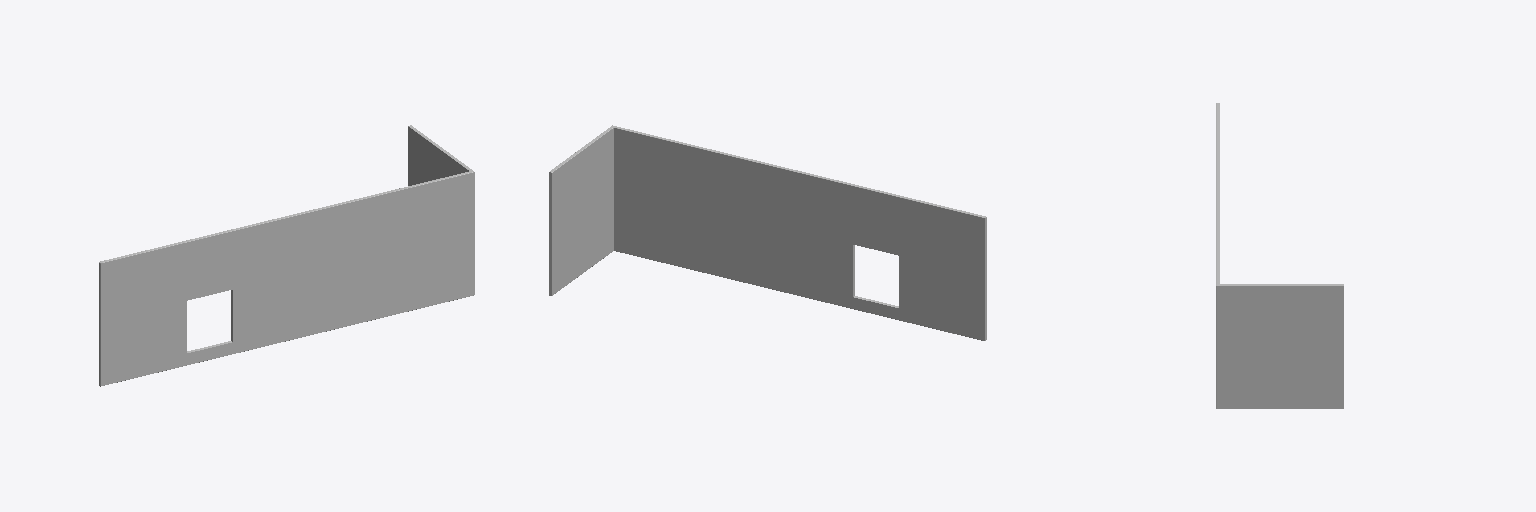
File: SM_Counter_Sink_Stove.obj
3 views of the same model, side by side, from view 1: azimuth 30°, elevation 25°; view 2: azimuth 150°, elevation 25°; view 3: azimuth 270°, elevation 25° (orthographic).
Visible parts, largest first — view 1: SM_Counter_Sink_Stove; view 2: SM_Counter_Sink_Stove; view 3: SM_Counter_Sink_Stove.
Part boxes in pixels (bbox=[...]): SM_Counter_Sink_Stove: bbox=[99, 125, 474, 386]; SM_Counter_Sink_Stove: bbox=[549, 125, 986, 340]; SM_Counter_Sink_Stove: bbox=[1216, 103, 1343, 408].
Bounding box in the file's own units: 3.18 × 1 × 0.9373.